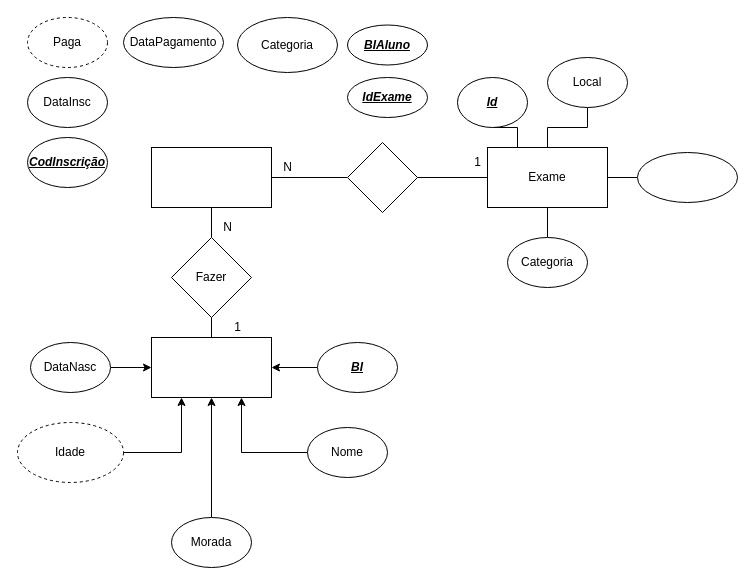
The diagram is 755 pixels wide and 585 high, and some of its shapes have lost their labels. Each missing label, with the box of its shape:
Aluno: (150, 336, 272, 398)
DataExame: (636, 152, 738, 202)
Inscrição: (150, 146, 272, 208)
